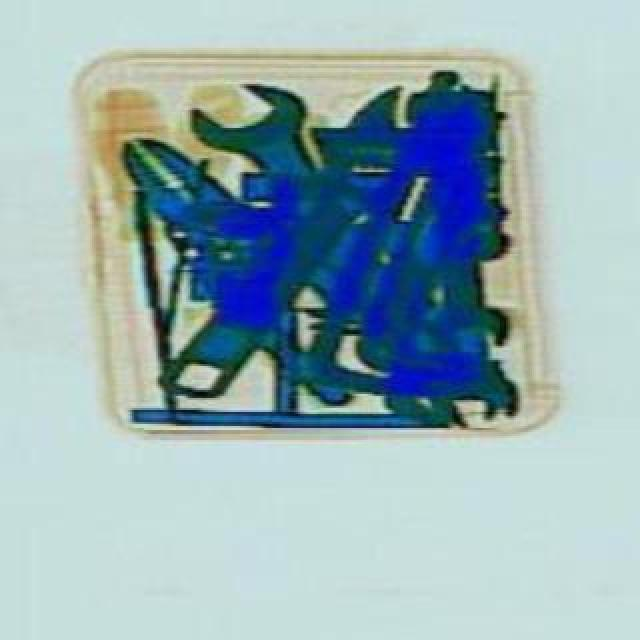scissors: (132, 68, 450, 416), (176, 58, 460, 376), (314, 244, 522, 462)
wrench: (80, 100, 408, 412)
